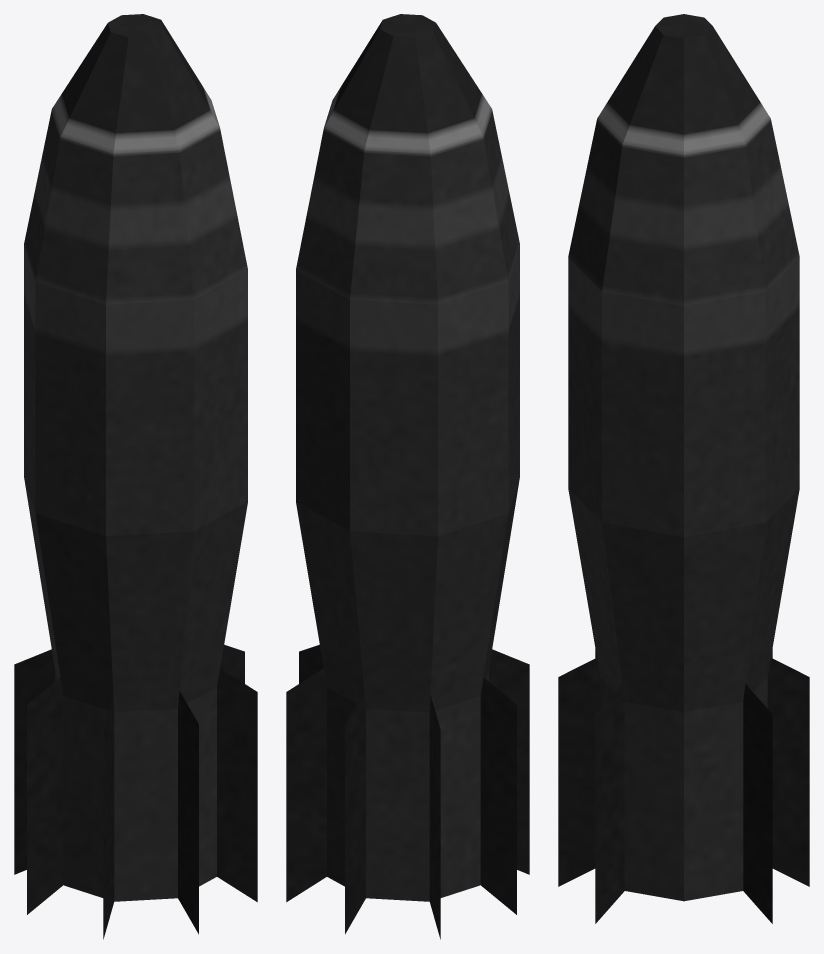
File: airbomb.obj
The picture shows the model from 3 angles, left to right: view 1: azimuth 30°, elevation 25°; view 2: azimuth 150°, elevation 25°; view 3: azimuth 270°, elevation 25°; orthographic projection.
Parts seen in each view (by area): view 1: Cylinder; view 2: Cylinder; view 3: Cylinder.
Part boxes in pixels (<box>): Cylinder: <box>14,14,257,939</box>; Cylinder: <box>286,14,529,939</box>; Cylinder: <box>558,14,809,923</box>.
Size of the model in its own units: 0.8128 by 3.08 by 0.8128.
